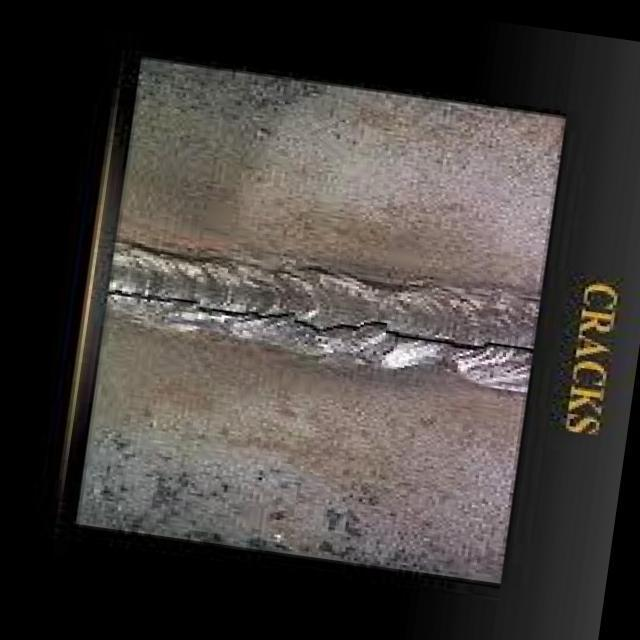defect: (104, 281, 537, 357)
